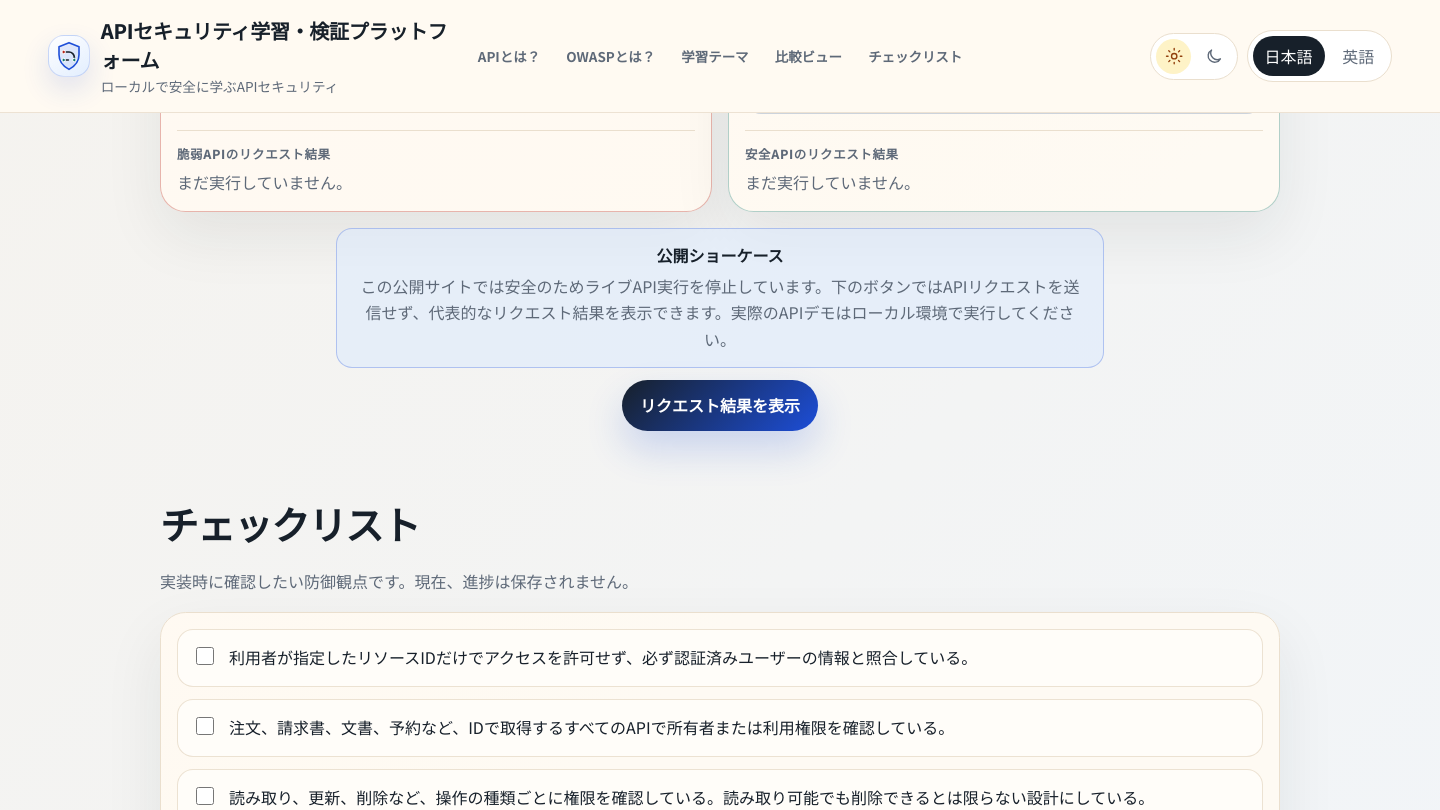
HomePage public showcase › places the public request-results control after the API examples
(page scrolled)
expect the text "公開ショーケース" is shown: met, box [656,243,784,267]
expect the element with class "demo-action-row" is shown: met, box [336,228,1104,431]
What coordinates should you click on to do the following:
click the button "リクエスト結果を表示"
I would click on:
 (720, 405)
Its box is [622,380,818,431].
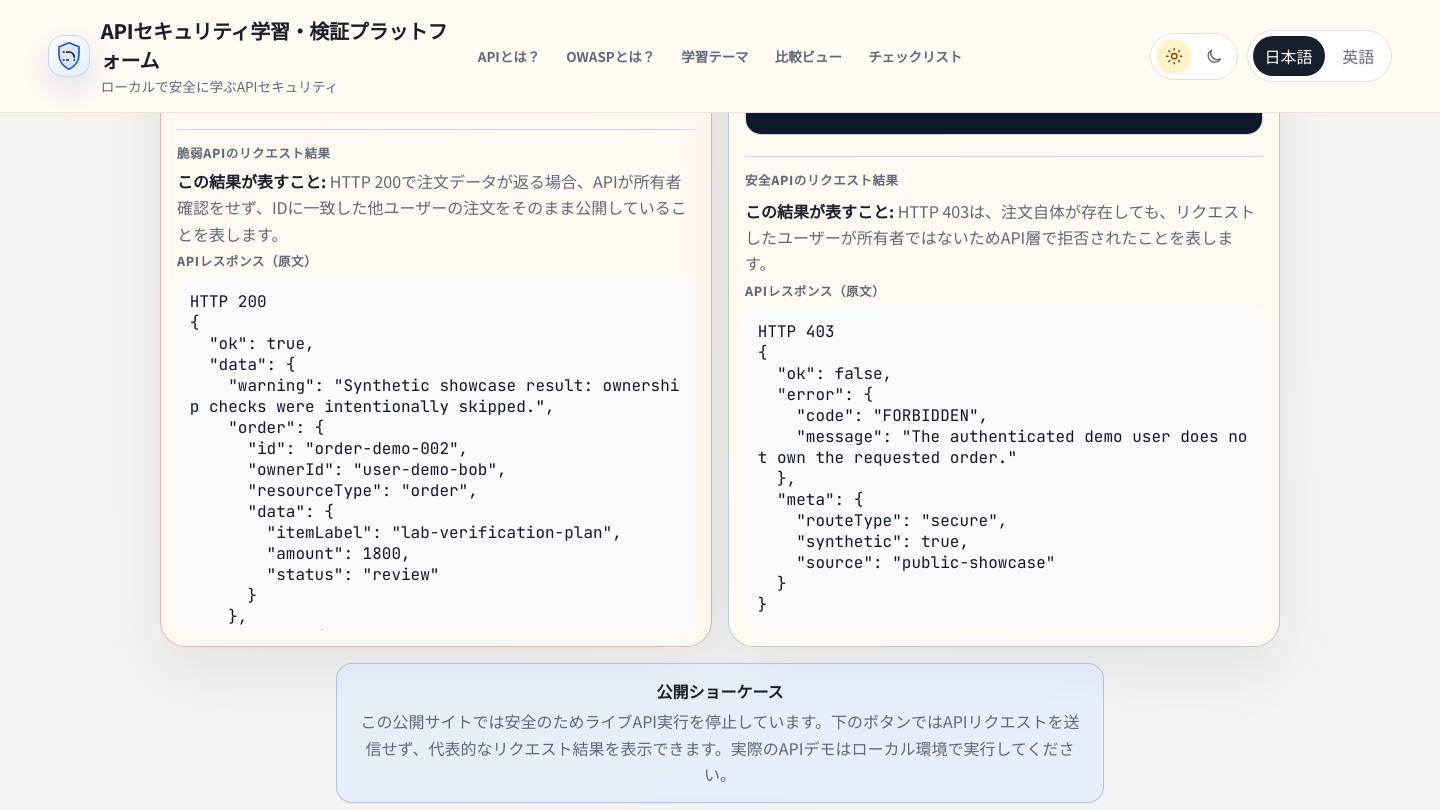
expect the element with class "api-result-box" shows "APIレスポンス（原文）": met, box [177,252,317,270]
expect the element with class "api-result-box" shows "HTTP 403": met, box [758,321,1247,615]
expect the element with class "api-result-box" shows "FORBIDDEN": met, box [758,321,1247,615]
